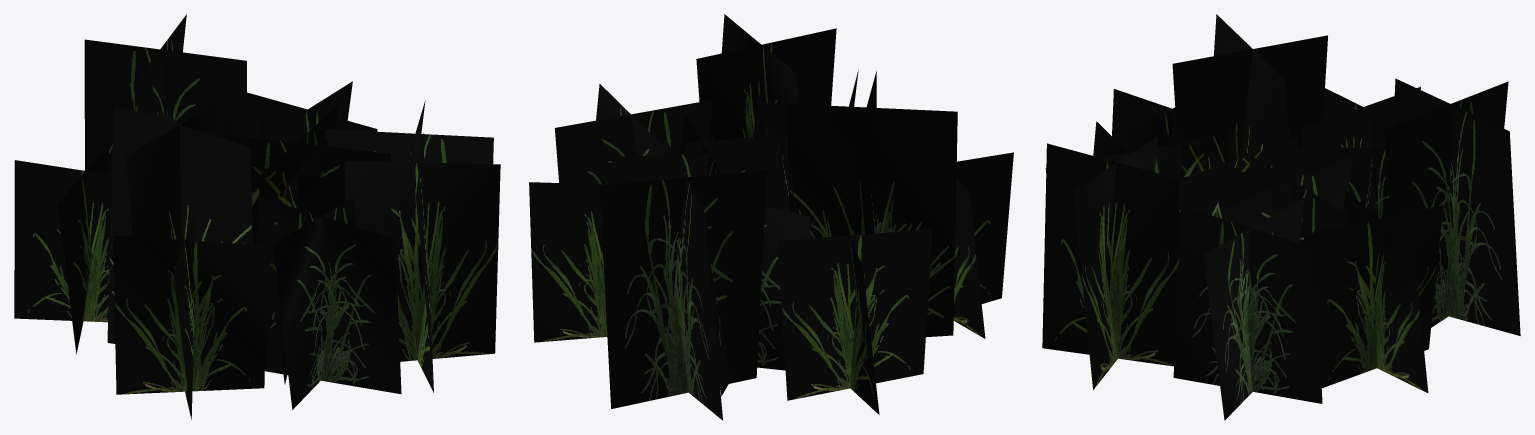
The model's file is obj__grass.obj.
3 views of the same model, side by side, from view 1: azimuth 30°, elevation 25°; view 2: azimuth 150°, elevation 25°; view 3: azimuth 270°, elevation 25° (orthographic).
Visible parts, largest first — view 1: grass.tga; view 2: grass.tga; view 3: grass.tga.
Boxes of the visible parts, left/top/right/bottom form: grass.tga: left=14, top=14, right=500, bottom=419; grass.tga: left=529, top=14, right=1013, bottom=420; grass.tga: left=1042, top=14, right=1520, bottom=420.
Size of the model in its own units: 62.66 by 35.94 by 66.84.
Materials: 1 (1 with a texture image).
